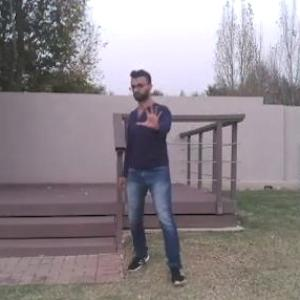follow_hand: (133, 98, 166, 133)
